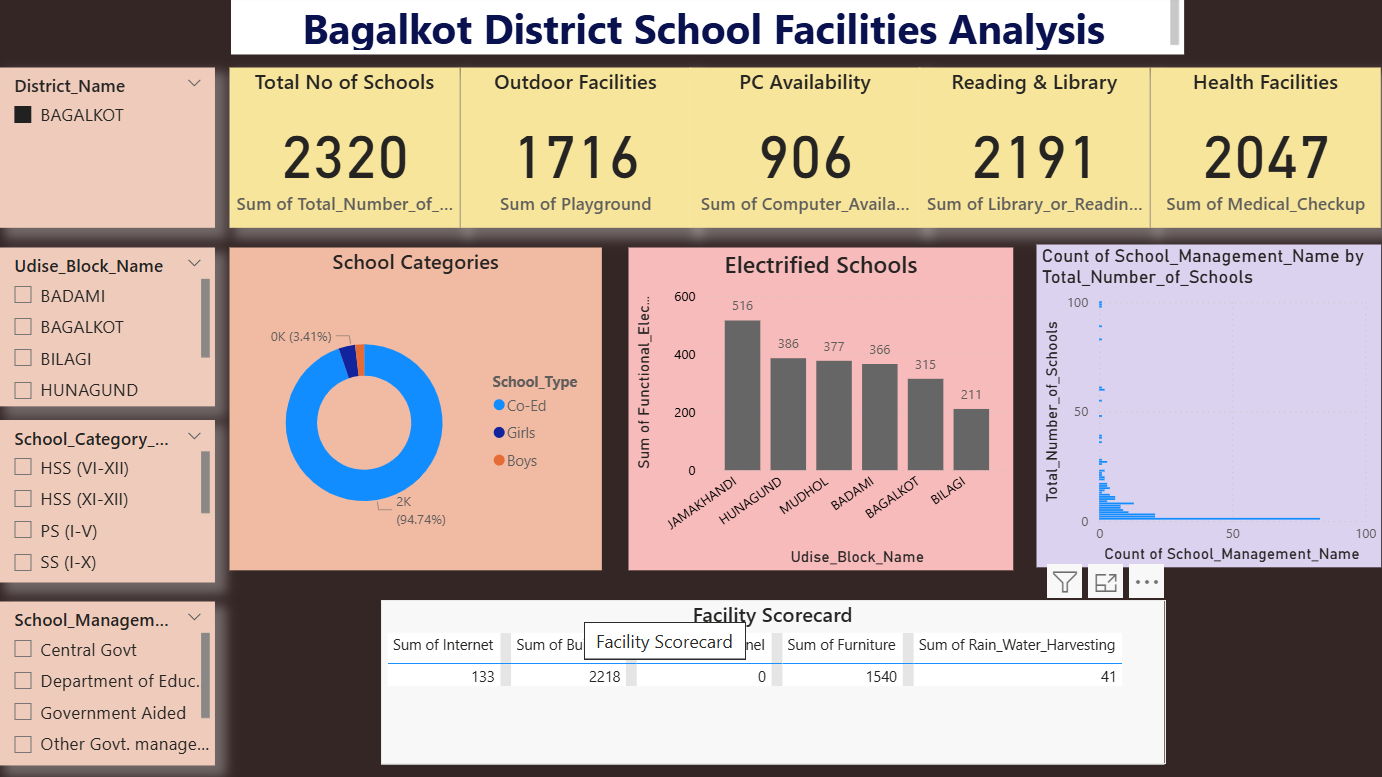

This screenshot's page, from the dashboard's own definition file:
{"tool":"powerbi","page":{"name":"Page 1","canvas":[1280,720],"ordinal":0},"visuals":[{"type":"textbox","box":[210.8,0,872.3,55.4],"z":0},{"type":"slicer","fields":{"Values":["Bagalkot_Education_Cleaned.Udise_Block_Name"]},"box":[0,231.7,196.8,145.4],"z":1000},{"type":"slicer","fields":{"Values":["Bagalkot_Education_Cleaned.School_Category_Name"]},"box":[0,389.2,196.8,148.4],"z":2000},{"type":"slicer","fields":{"Values":["Bagalkot_Education_Cleaned.School_Management_Name"]},"box":[0,555.7,196.8,149.9],"z":3000},{"type":"card","title":"Total No of Schools","fields":{"Values":["Sum(Bagalkot_Education_Cleaned.Total_Number_of_Schools)"]},"box":[210.5,66.6,210.5,146.9],"z":4000},{"type":"card","title":"Outdoor Facilities","fields":{"Values":["Sum(Bagalkot_Education_Cleaned.Playground)"]},"box":[420.9,66.6,210.5,146.9],"z":5000},{"type":"card","title":"PC Availability","fields":{"Values":["Sum(Bagalkot_Education_Cleaned.Computer_Available)"]},"box":[631.4,66.6,210.5,146.9],"z":6000},{"type":"card","title":"Reading & Library","fields":{"Values":["Sum(Bagalkot_Education_Cleaned.Library_or_Reading_Corner_or_Book_Bank)"]},"box":[841.9,66.6,210.5,146.9],"z":7000},{"type":"slicer","fields":{"Values":["Bagalkot_Education_Cleaned.District_Name"]},"box":[0,66.6,196.8,146.9],"z":8000},{"type":"card","title":"Health Facilities","fields":{"Values":["Sum(Bagalkot_Education_Cleaned.Medical_Checkup)"]},"box":[1052.4,66.6,210.5,146.9],"z":9000},{"type":"donutChart","title":"School Categories","fields":{"Y":["Sum(Bagalkot_Education_Cleaned.Total_Number_of_Schools)"],"Category":["Bagalkot_Education_Cleaned.School_Type"]},"box":[210.5,231.7,340.7,295.3],"z":10000},{"type":"columnChart","title":"Electrified Schools","fields":{"Category":["Bagalkot_Education_Cleaned.Udise_Block_Name"],"Y":["Sum(Bagalkot_Education_Cleaned.Functional_Electricity)"]},"box":[575.4,232.3,352.3,295.4],"z":11000},{"type":"barChart","fields":{"Y":["CountNonNull(Bagalkot_Education_Cleaned.School_Management_Name)"],"Category":["Bagalkot_Education_Cleaned.Total_Number_of_Schools"]},"box":[947.7,229.2,315.4,295.4],"z":12000},{"type":"tableEx","title":"Facility Scorecard","fields":{"Values":["Sum(Bagalkot_Education_Cleaned.Internet)","Sum(Bagalkot_Education_Cleaned.Building)","Sum(Bagalkot_Education_Cleaned.Solar_Panel)","Sum(Bagalkot_Education_Cleaned.Furniture)","Sum(Bagalkot_Education_Cleaned.Rain_Water_Harvesting)"]},"box":[349.2,553.8,716.9,150.8],"z":13000}]}

Visuals, with their boxes in screenshot pixels (x1, y1, x2, y2), scaled from the page's 1280x720 canvas onto the 1382x777 screenshot:
textbox: l=228, t=0, r=1169, b=60
slicer - Bagalkot_Education_Cleaned.Udise_Block_Name: l=0, t=250, r=212, b=407
slicer - Bagalkot_Education_Cleaned.School_Category_Name: l=0, t=420, r=212, b=580
slicer - Bagalkot_Education_Cleaned.School_Management_Name: l=0, t=600, r=212, b=761
"Total No of Schools" card: l=227, t=72, r=455, b=230
"Outdoor Facilities" card: l=454, t=72, r=682, b=230
"PC Availability" card: l=682, t=72, r=909, b=230
"Reading & Library" card: l=909, t=72, r=1136, b=230
slicer - Bagalkot_Education_Cleaned.District_Name: l=0, t=72, r=212, b=230
"Health Facilities" card: l=1136, t=72, r=1364, b=230
"School Categories" donutChart: l=227, t=250, r=595, b=569
"Electrified Schools" columnChart: l=621, t=251, r=1002, b=569
barChart - CountNonNull(Bagalkot_Education_Cleaned.School_Management_Name) x Bagalkot_Education_Cleaned.Total_Number_of_Schools: l=1023, t=247, r=1364, b=566
"Facility Scorecard" tableEx: l=377, t=598, r=1151, b=760
